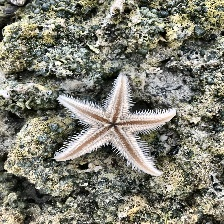starfish: (53, 76, 177, 177)
